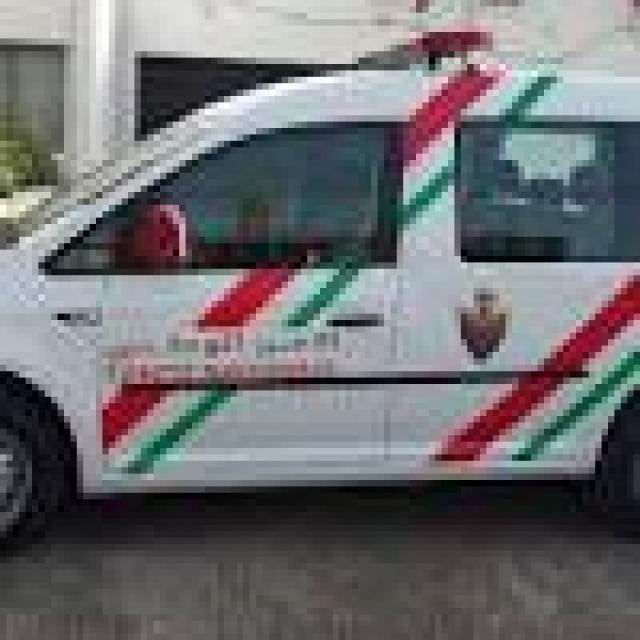police: (0, 35, 640, 570)
